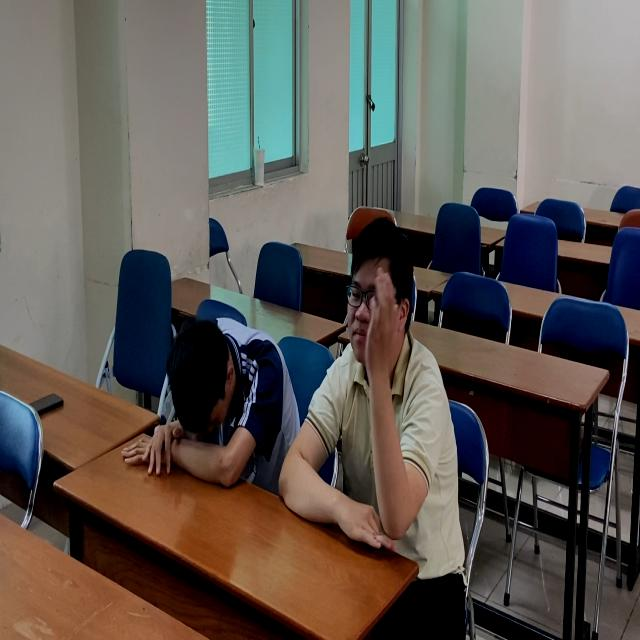raise_hand: (285, 208, 468, 577)
sleep: (122, 307, 284, 498)
